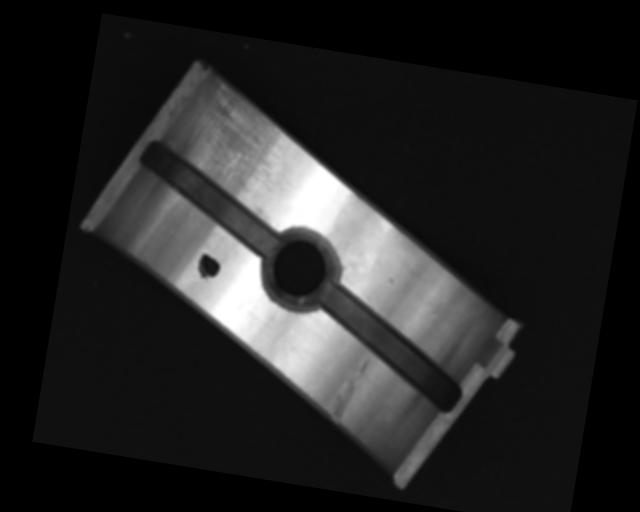blot: (194, 251, 223, 282)
bruise: (386, 276, 395, 289)
gap: (306, 281, 474, 412), (128, 139, 291, 257)
hole: (258, 222, 344, 315)
nick: (329, 354, 369, 428)
scratch: (177, 77, 297, 202)
